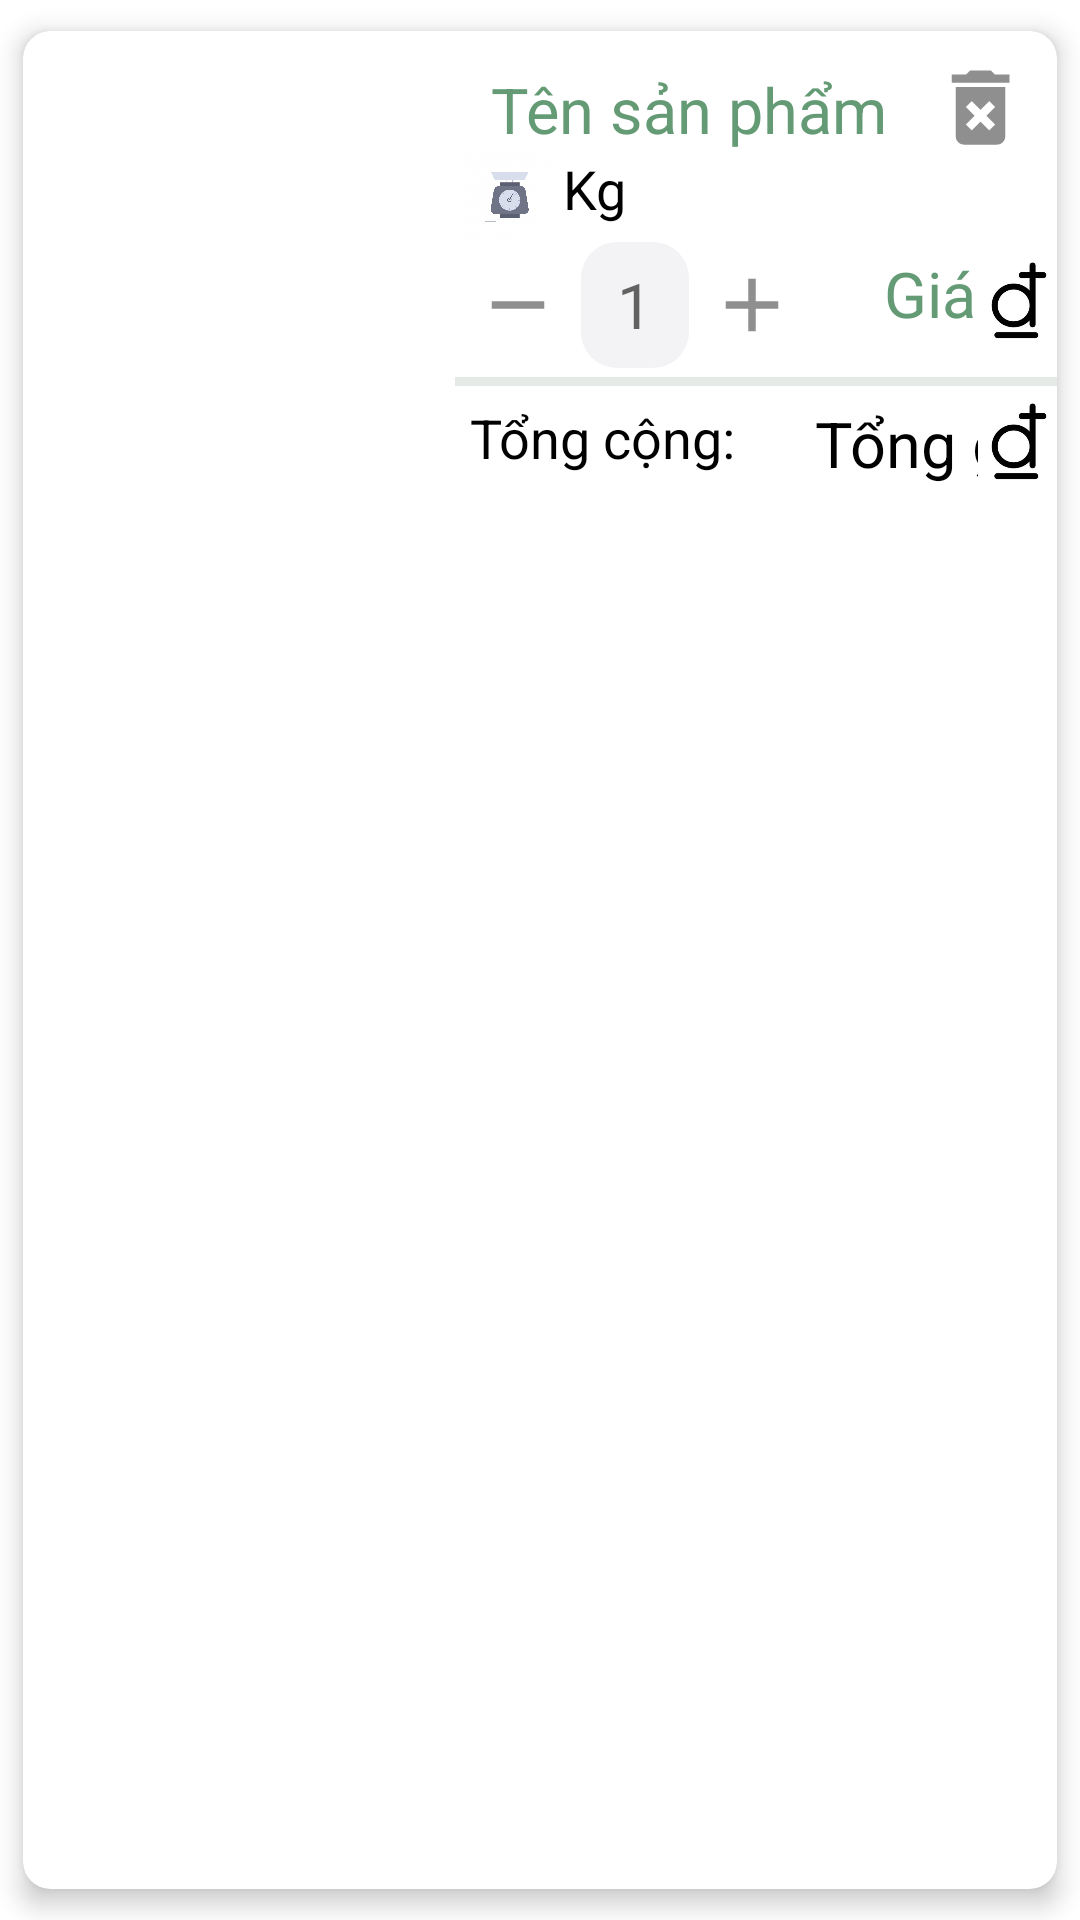

Where icons sit on this 1080×1920 app screen, as [x1, y1, x2, y2]:
add: [725, 278, 779, 332]
delete: [951, 70, 1010, 145]
weight: [485, 172, 529, 222]
